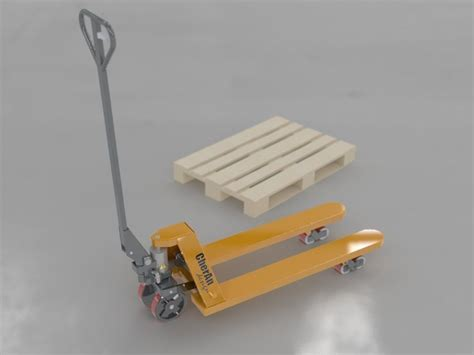Pallet Jack: (77, 7, 386, 323)
